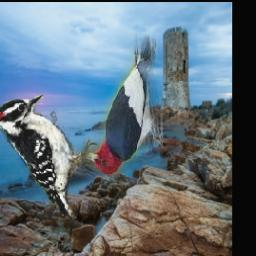Woodpecker: (0, 95, 105, 220), (81, 35, 163, 176)
